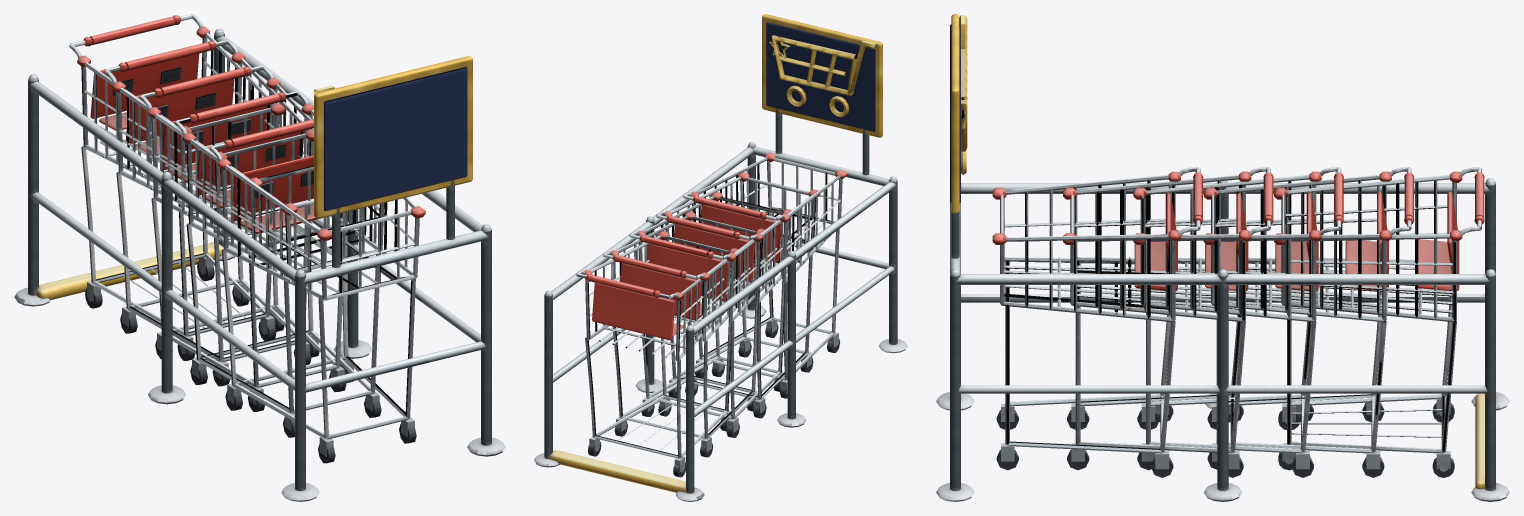
File: cart-corral.fbx
3 views of the same model, side by side, from view 1: azimuth 30°, elevation 25°; view 2: azimuth 150°, elevation 25°; view 3: azimuth 270°, elevation 25° (orthographic). The views are drawn at different scales.
Parts seen in each view (by area): view 1: Body; view 2: Body; view 3: Body.
Part boxes in pixels (<box>): Body: <box>14,14,505,501</box>; Body: <box>534,14,907,501</box>; Body: <box>936,14,1509,501</box>.
Size of the model in its own units: 0.92 by 1.59 by 2.08.
